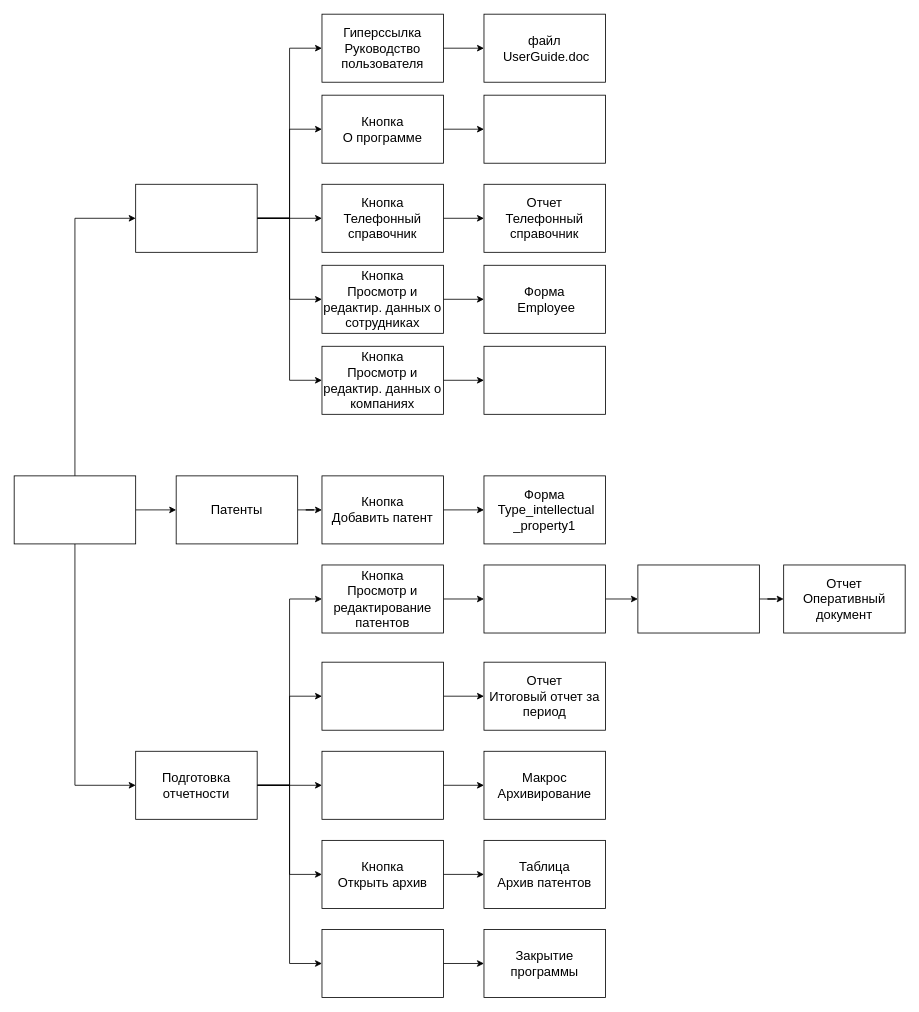
Some shapes in this 919 by 1012 pixel diagram are drawn without their labels. The shapes that lost their labels are listed below. From the top down, each one's centre as x and y in pixels, then its label:
At point (544, 128): "Отчет Отчет-справка".
At point (196, 217): "Справочники".
At point (544, 379): "Форма Company".
At point (74, 509): "Форма Главное меню".
At point (544, 598): "Форма Type_intellectual _property".
At point (698, 598): "Кнопка Печать информации о патентах".
At point (382, 695): "Кнопка Формирование отчета количестве патентов за год".
At point (382, 784): "Кнопка Копирование данных в архив".
At point (382, 963): "Кнопка Выход".
